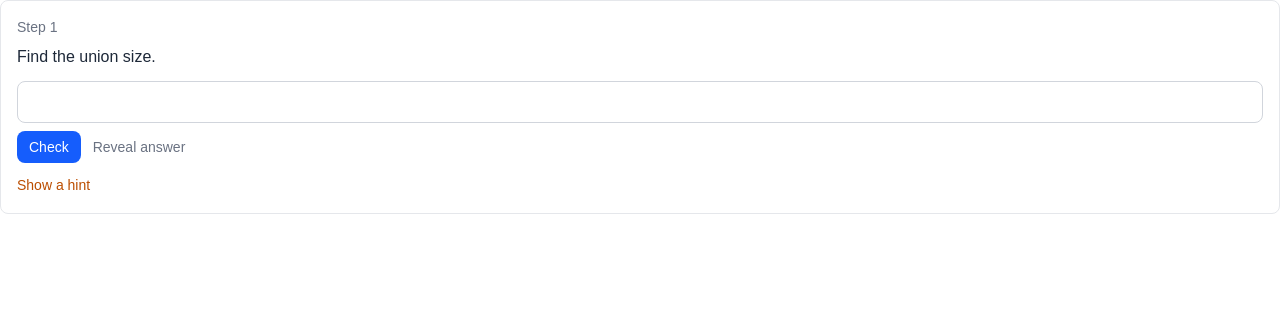
StepCard › reveals the answer via the reveal hatch
Click the button "Reveal answer" at [139, 147], box [93,137,185,157]
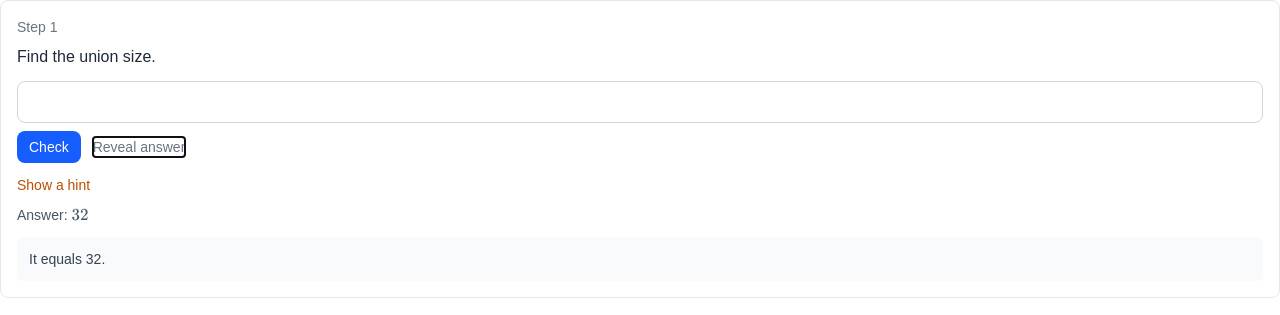
Expected: the text "It equals 32." is shown, [29,251,105,267]
